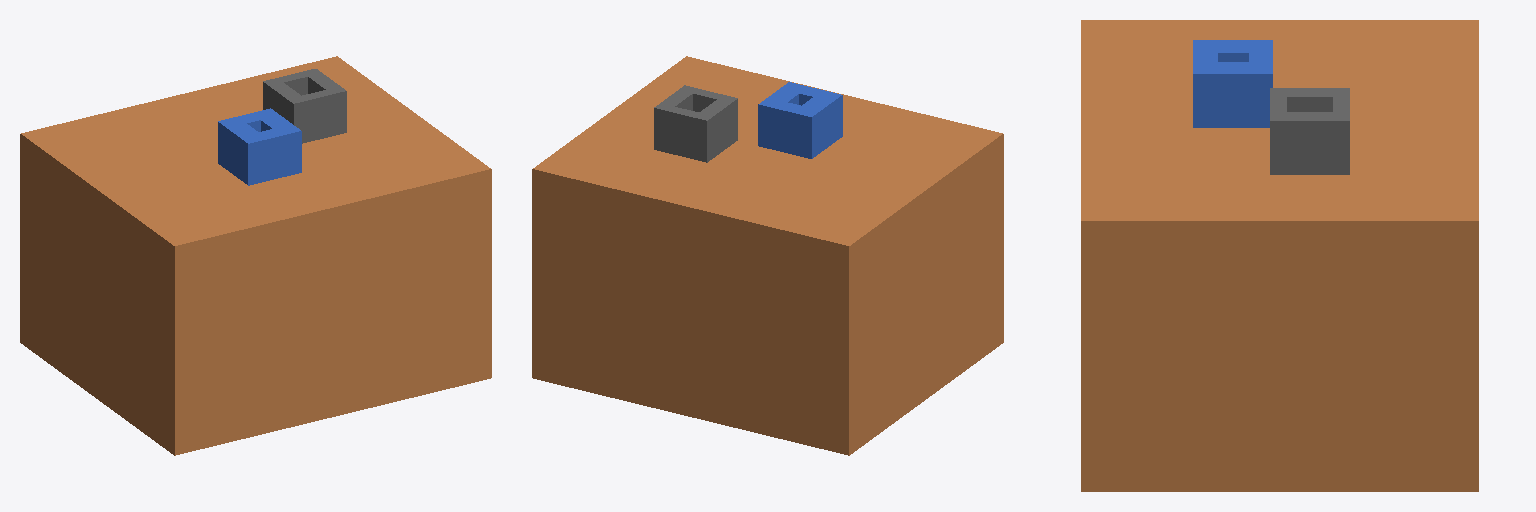
The robot description file, URDF, robot "peg_in_hole_fixtured_scene_0017_peg0000_tol04":
<?xml version="1.0"?>
<robot name="peg_in_hole_fixtured_scene_0017_peg0000_tol04">
  <material name="wood"><color rgba="0.82 0.56 0.35 1.0"/></material>
  <material name="start_fix"><color rgba="0.30 0.50 0.85 1.0"/></material>
  <material name="goal_fix"><color rgba="0.4706 0.4706 0.4706 1.0"/></material>
  <link name="box">
    <visual>
      <origin xyz="0.000000 0.000000 0.000000" rpy="0 0 0"/>
      <geometry><box size="0.475000 0.400000 0.300000"/></geometry>
      <material name="wood"/>
    </visual>
    <collision>
      <origin xyz="0.000000 0.000000 0.000000" rpy="0 0 0"/>
      <geometry><box size="0.475000 0.400000 0.300000"/></geometry>
    </collision>
    <visual>
      <origin xyz="-0.021581 -0.046991 0.155000" rpy="0 0 0"/>
      <geometry><box size="0.080000 0.080000 0.010000"/></geometry>
      <material name="start_fix"/>
    </visual>
    <collision>
      <origin xyz="-0.021581 -0.046991 0.155000" rpy="0 0 0"/>
      <geometry><box size="0.080000 0.080000 0.010000"/></geometry>
    </collision>
    <visual>
      <origin xyz="0.003669 -0.046991 0.185000" rpy="0 0 0"/>
      <geometry><box size="0.029500 0.080000 0.050000"/></geometry>
      <material name="start_fix"/>
    </visual>
    <collision>
      <origin xyz="0.003669 -0.046991 0.185000" rpy="0 0 0"/>
      <geometry><box size="0.029500 0.080000 0.050000"/></geometry>
    </collision>
    <visual>
      <origin xyz="-0.046831 -0.046991 0.185000" rpy="0 0 0"/>
      <geometry><box size="0.029500 0.080000 0.050000"/></geometry>
      <material name="start_fix"/>
    </visual>
    <collision>
      <origin xyz="-0.046831 -0.046991 0.185000" rpy="0 0 0"/>
      <geometry><box size="0.029500 0.080000 0.050000"/></geometry>
    </collision>
    <visual>
      <origin xyz="-0.021581 -0.019241 0.185000" rpy="0 0 0"/>
      <geometry><box size="0.021000 0.024500 0.050000"/></geometry>
      <material name="start_fix"/>
    </visual>
    <collision>
      <origin xyz="-0.021581 -0.019241 0.185000" rpy="0 0 0"/>
      <geometry><box size="0.021000 0.024500 0.050000"/></geometry>
    </collision>
    <visual>
      <origin xyz="-0.021581 -0.074741 0.185000" rpy="0 0 0"/>
      <geometry><box size="0.021000 0.024500 0.050000"/></geometry>
      <material name="start_fix"/>
    </visual>
    <collision>
      <origin xyz="-0.021581 -0.074741 0.185000" rpy="0 0 0"/>
      <geometry><box size="0.021000 0.024500 0.050000"/></geometry>
    </collision>
    <visual>
      <origin xyz="0.090509 0.030006 0.155000" rpy="0 0 0"/>
      <geometry><box size="0.080000 0.080000 0.010000"/></geometry>
      <material name="goal_fix"/>
    </visual>
    <collision>
      <origin xyz="0.090509 0.030006 0.155000" rpy="0 0 0"/>
      <geometry><box size="0.080000 0.080000 0.010000"/></geometry>
    </collision>
    <visual>
      <origin xyz="0.119615 0.030006 0.185000" rpy="0 0 0"/>
      <geometry><box size="0.021789 0.080000 0.050000"/></geometry>
      <material name="goal_fix"/>
    </visual>
    <collision>
      <origin xyz="0.119615 0.030006 0.185000" rpy="0 0 0"/>
      <geometry><box size="0.021789 0.080000 0.050000"/></geometry>
    </collision>
    <visual>
      <origin xyz="0.061403 0.030006 0.185000" rpy="0 0 0"/>
      <geometry><box size="0.021789 0.080000 0.050000"/></geometry>
      <material name="goal_fix"/>
    </visual>
    <collision>
      <origin xyz="0.061403 0.030006 0.185000" rpy="0 0 0"/>
      <geometry><box size="0.021789 0.080000 0.050000"/></geometry>
    </collision>
    <visual>
      <origin xyz="0.090509 0.061611 0.185000" rpy="0 0 0"/>
      <geometry><box size="0.036423 0.016789 0.050000"/></geometry>
      <material name="goal_fix"/>
    </visual>
    <collision>
      <origin xyz="0.090509 0.061611 0.185000" rpy="0 0 0"/>
      <geometry><box size="0.036423 0.016789 0.050000"/></geometry>
    </collision>
    <visual>
      <origin xyz="0.090509 -0.001600 0.185000" rpy="0 0 0"/>
      <geometry><box size="0.036423 0.016789 0.050000"/></geometry>
      <material name="goal_fix"/>
    </visual>
    <collision>
      <origin xyz="0.090509 -0.001600 0.185000" rpy="0 0 0"/>
      <geometry><box size="0.036423 0.016789 0.050000"/></geometry>
    </collision>
    <inertial>
      <mass value="500"/>
      <friction value="1.0"/>
      <inertia ixx="1000.0" ixy="0.0" ixz="0.0" iyy="1000.0" iyz="0.0" izz="1000.0"/>
    </inertial>
  </link>
</robot>

--- Facts derived from the render (not from the file) ---
Views: 3 orthographic renders of the robot side by side, from view 1: azimuth 30°, elevation 25°; view 2: azimuth 150°, elevation 25°; view 3: azimuth 270°, elevation 25°.
Robot: peg_in_hole_fixtured_scene_0017_peg0000_tol04 — 1 links, 0 joints (none); root link box; default pose: all joints at 0.
Links seen in each view (by area): view 1: box; view 2: box; view 3: box.
Link boxes in pixels (left/top/right/bottom): box: left=20, top=56, right=491, bottom=455; box: left=532, top=56, right=1003, bottom=455; box: left=1081, top=20, right=1478, bottom=491.
Size in the robot's own frame: 0.475 by 0.4 by 0.36 metres.
Geometry: primitives only (box / cylinder / sphere), no mesh files.
